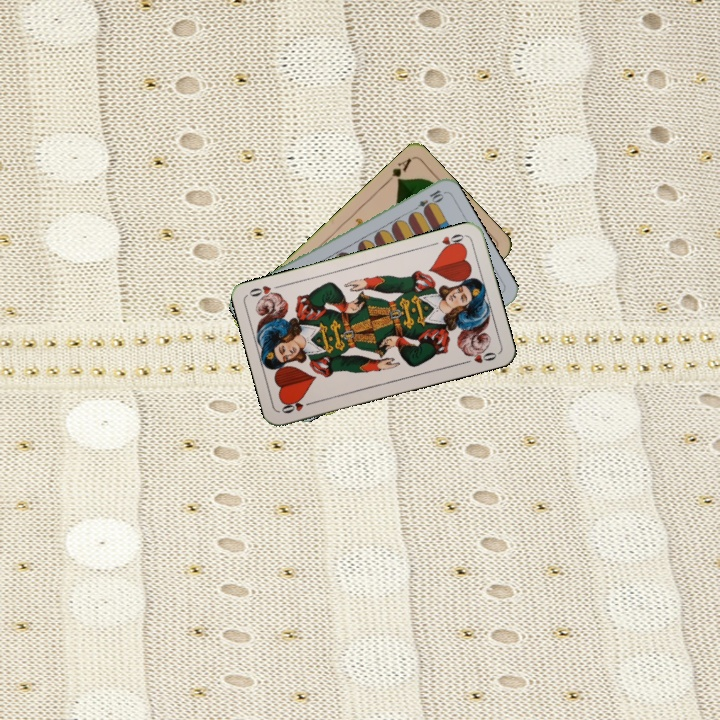E10: (408, 186, 446, 215)
GA: (381, 154, 414, 186)
HO: (428, 230, 468, 252), (277, 396, 317, 416)
